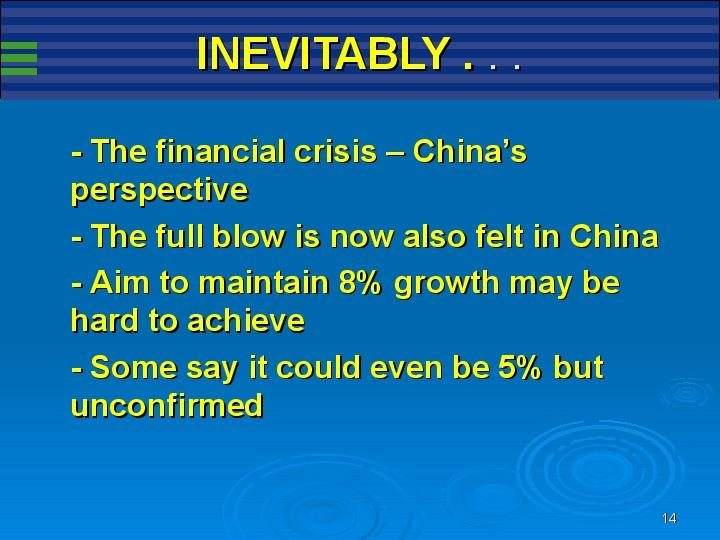paragraph: (55, 121, 680, 453)
title: (184, 20, 534, 87)
